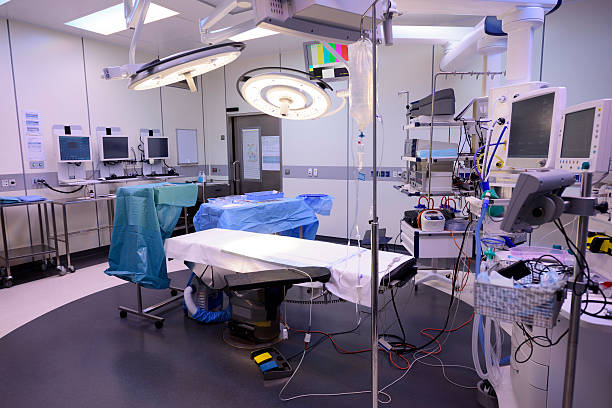bedside_monitor: (550, 98, 607, 182), (499, 87, 556, 171)
breathing_tube: (472, 208, 504, 389)
computer: (56, 133, 96, 162), (100, 135, 131, 161), (144, 136, 170, 163)
dispenser: (198, 171, 209, 184)
door_handle: (233, 160, 241, 183)
iv_pole: (361, 1, 403, 408)
keyboard: (145, 170, 180, 176), (102, 174, 140, 179), (63, 178, 97, 182)
operating_bed: (164, 227, 416, 351)
surgical_instrument: (208, 191, 302, 211), (120, 182, 195, 190)
surgical_light: (124, 42, 251, 92), (237, 67, 336, 122)
utility_cart: (116, 184, 198, 329), (1, 195, 66, 285), (38, 197, 113, 274)
